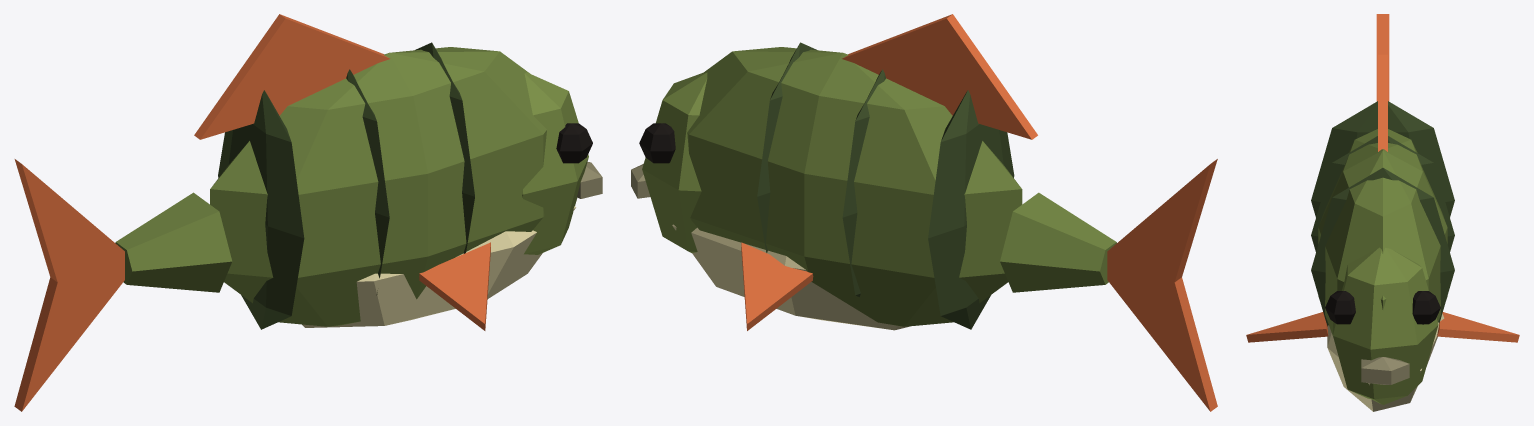
Rendered from fish_perch.glb.
The picture shows the model from 3 angles, left to right: view 1: azimuth 30°, elevation 25°; view 2: azimuth 150°, elevation 25°; view 3: azimuth 270°, elevation 25°; orthographic projection. The views are drawn at different scales.
Parts seen in each view (by area): view 1: body, tail; view 2: body, tail; view 3: body, tail.
Part boxes in pixels (box(x1,y1,x2,y2)): body: box(194, 14, 602, 330); tail: box(14, 159, 232, 411); body: box(631, 14, 1037, 330); tail: box(1000, 159, 1217, 411); body: box(1246, 54, 1519, 411); tail: box(1376, 14, 1389, 101).
Size of the model in its own units: 0.5415 by 0.3 by 0.266.
